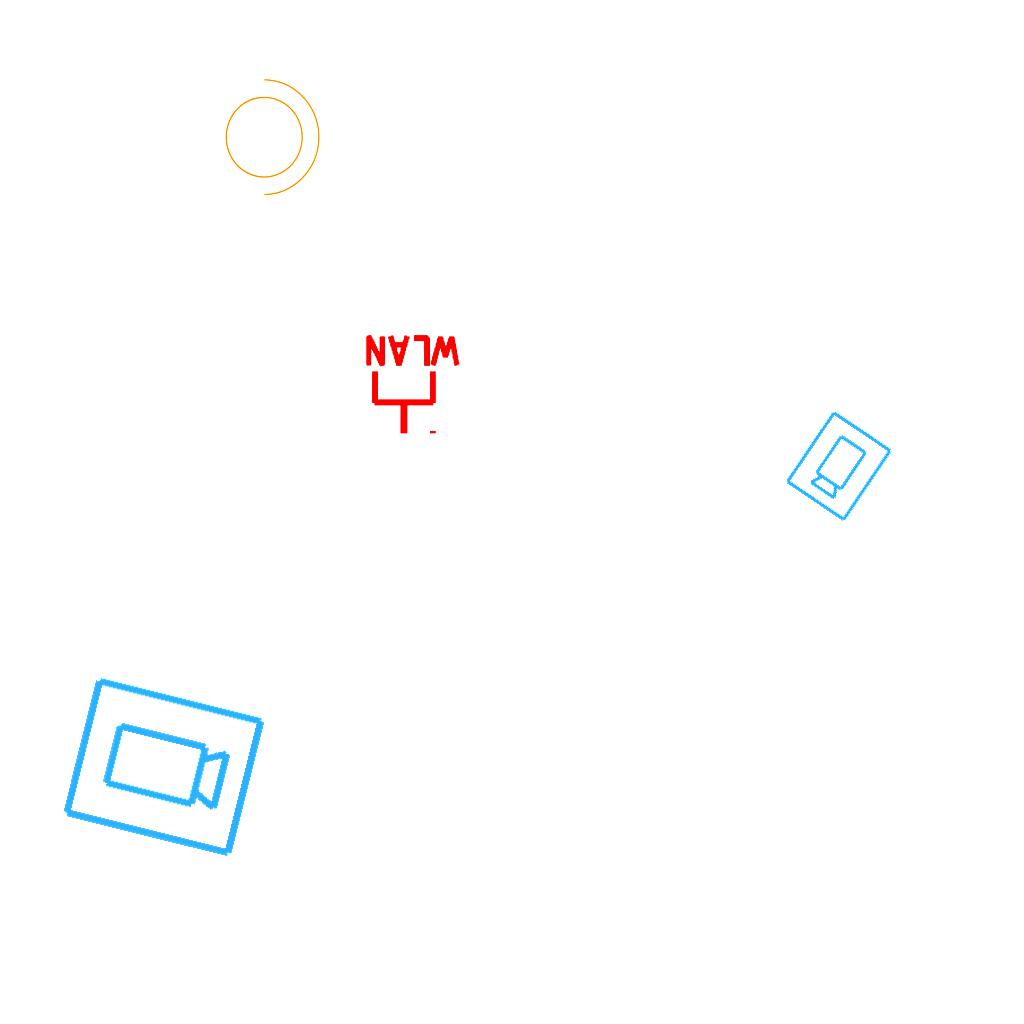KFO_Kamera_mit_Festobjektiv: (56, 671, 270, 865), (781, 406, 896, 525)
Scheinwerfer_fuer_Alarmbeleuchtung: (213, 68, 325, 200)
WLAN: (361, 333, 465, 438)
